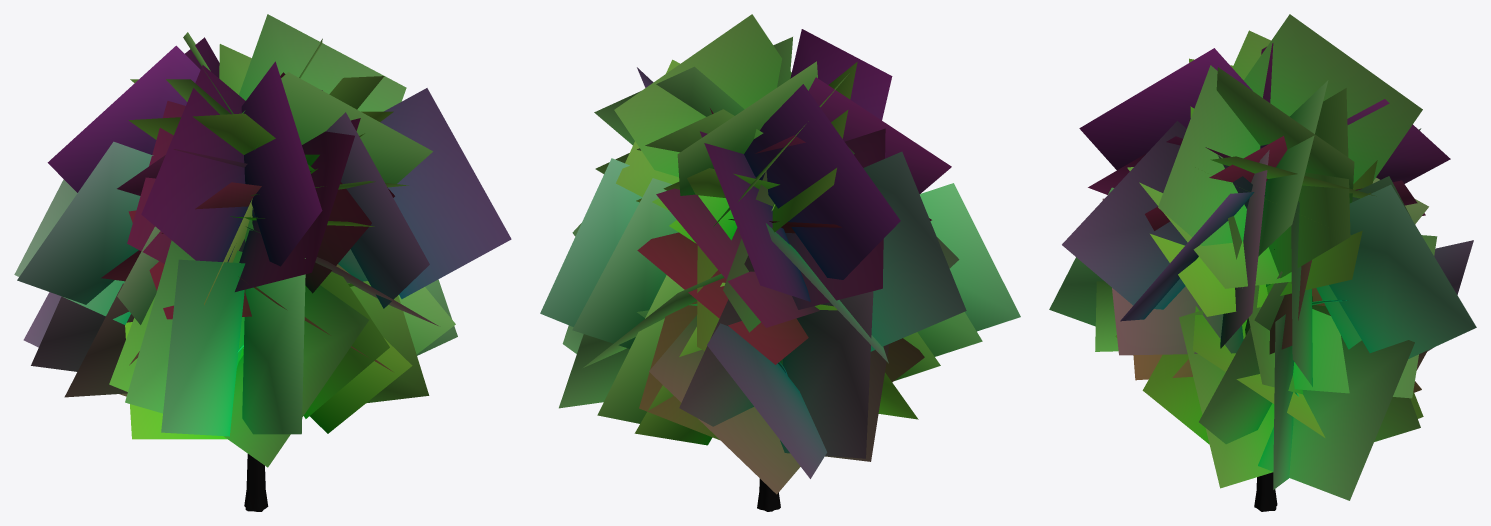
The model's file is M_P15_Tree_1.fbx.
3 renders of one model, left to right at view 1: azimuth 30°, elevation 25°; view 2: azimuth 150°, elevation 25°; view 3: azimuth 270°, elevation 25°, orthographic. The views are drawn at different scales.
Visible parts, largest first — view 1: Tree_1; view 2: Tree_1; view 3: Tree_1.
Boxes of the visible parts, box(x1,y1,x2,y2) form: Tree_1: box(14, 14, 511, 511); Tree_1: box(540, 14, 1020, 511); Tree_1: box(1049, 14, 1476, 511).
Bounding box in the file's own units: 528 × 564 × 471.
